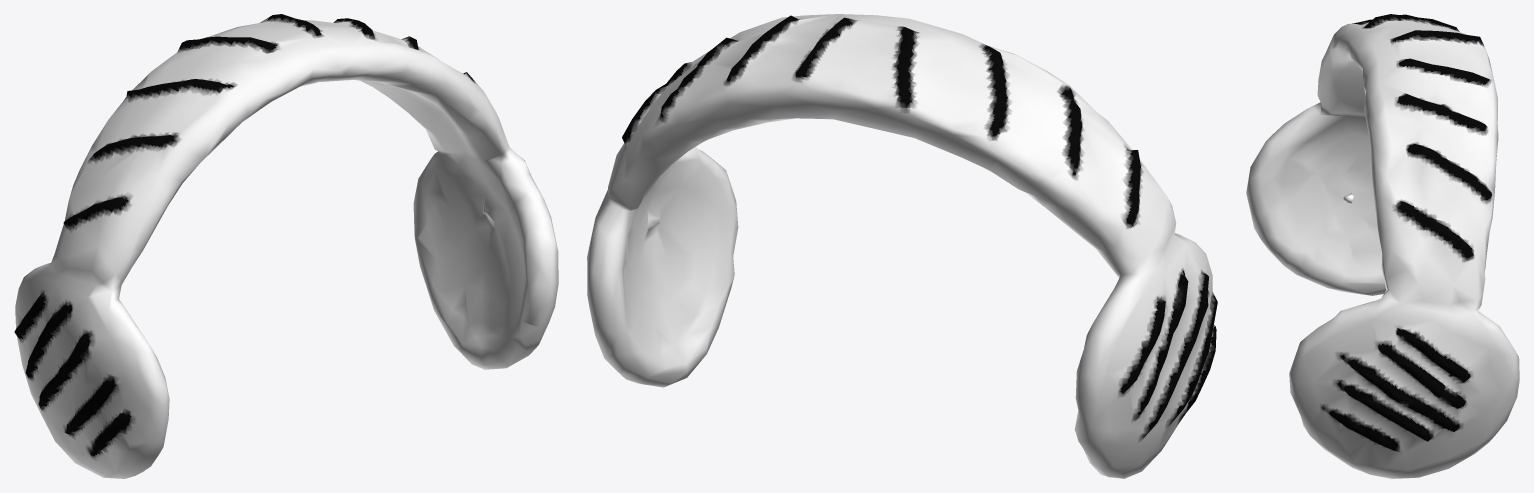
File: lined headphones.glb
The picture shows the model from 3 angles, left to right: view 1: azimuth 30°, elevation 25°; view 2: azimuth 150°, elevation 25°; view 3: azimuth 270°, elevation 25°; orthographic projection. The views are drawn at different scales.
Visible parts, largest first — view 1: headphones_lined.001; view 2: headphones_lined.001; view 3: headphones_lined.001.
Part boxes in pixels (x1,y1,x2,y2): headphones_lined.001: (14,14,558,478); headphones_lined.001: (587,14,1217,478); headphones_lined.001: (1246,14,1519,478).
Bounding box in the file's own units: 0.391 × 0.2816 × 0.2012.
1 material, 1 textured.
